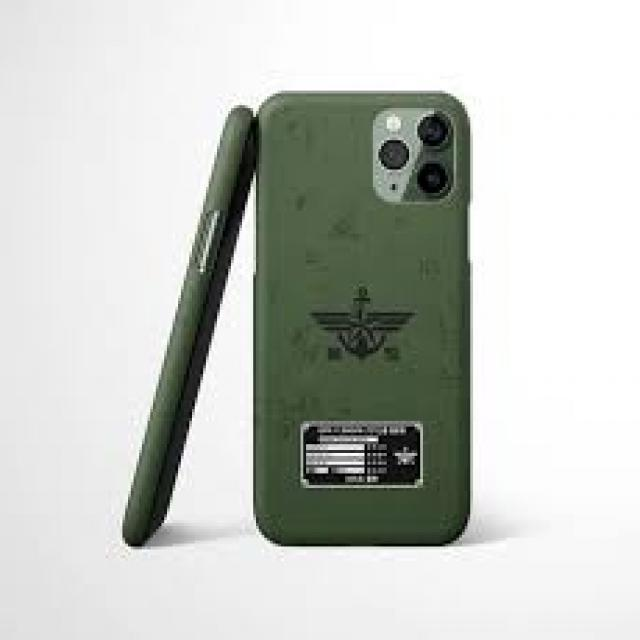mobile: (245, 74, 484, 570), (110, 90, 258, 557)
